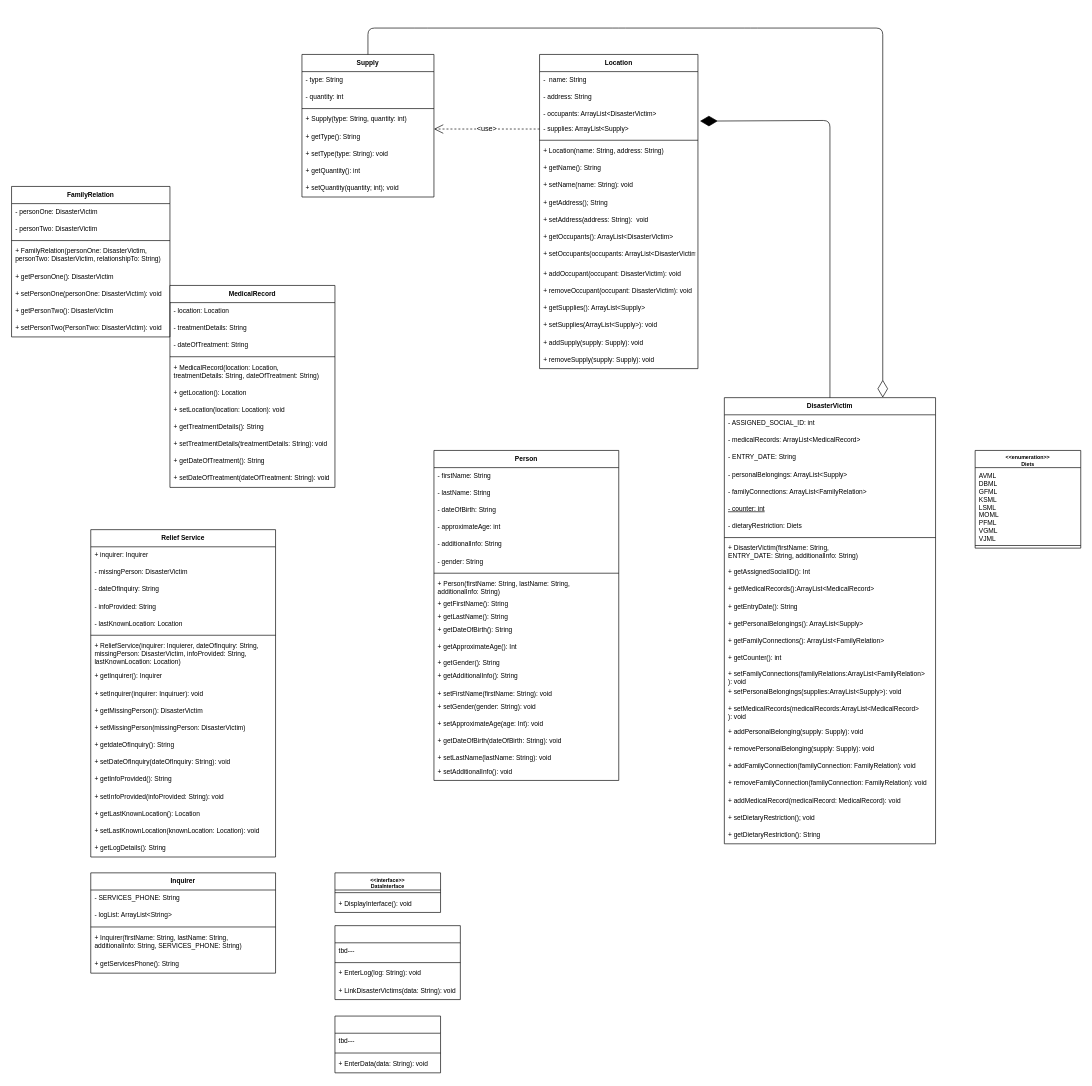
Image size: 1092x1086. Some labels were removed from this diagram. Each missing label, with the box of its shape:
EnterDisasterVictims: (334, 1015, 441, 1073)
InquirerQueries: (334, 925, 460, 1000)
